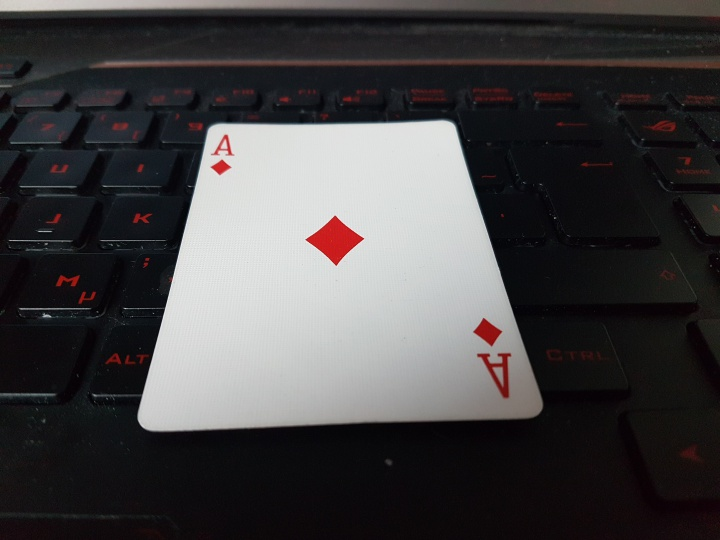ace: (141, 121, 544, 427)
